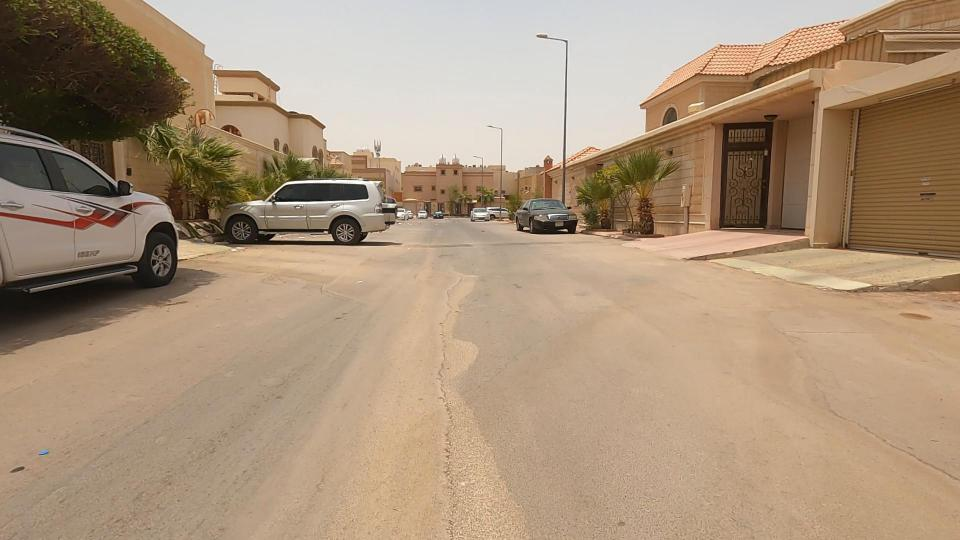POTHOLES: (388, 315, 497, 522), (394, 253, 487, 390)
